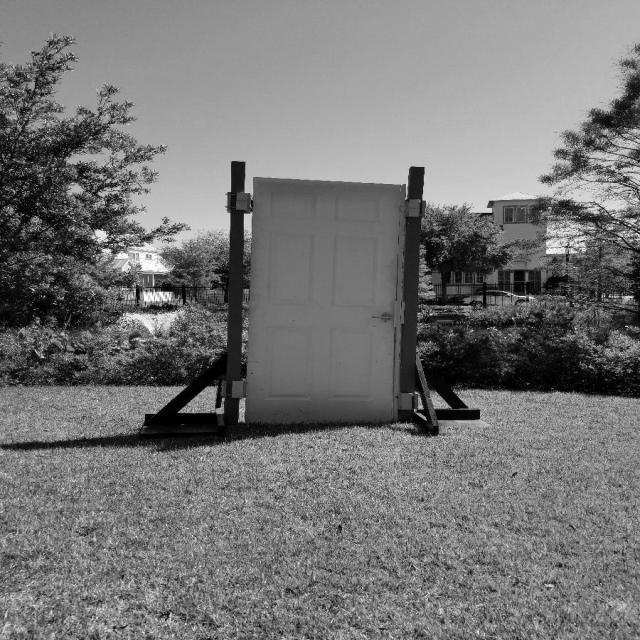door: (243, 173, 406, 426), (368, 311, 394, 325)
